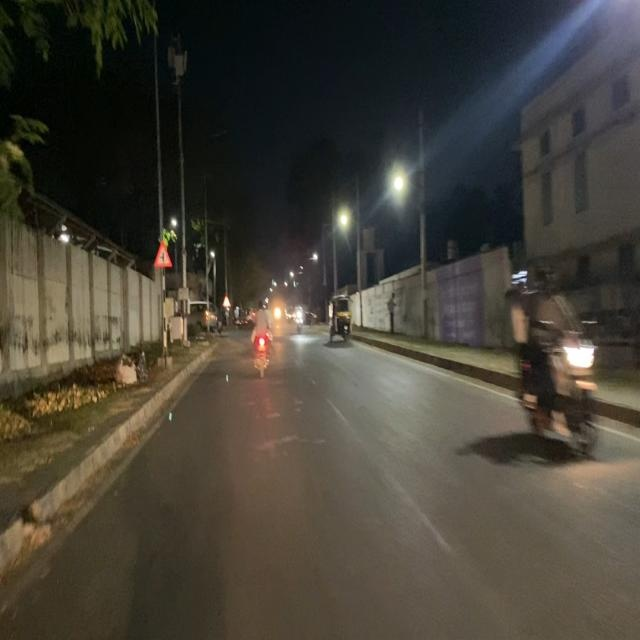bien_nguy_hiem: (154, 240, 172, 270)
